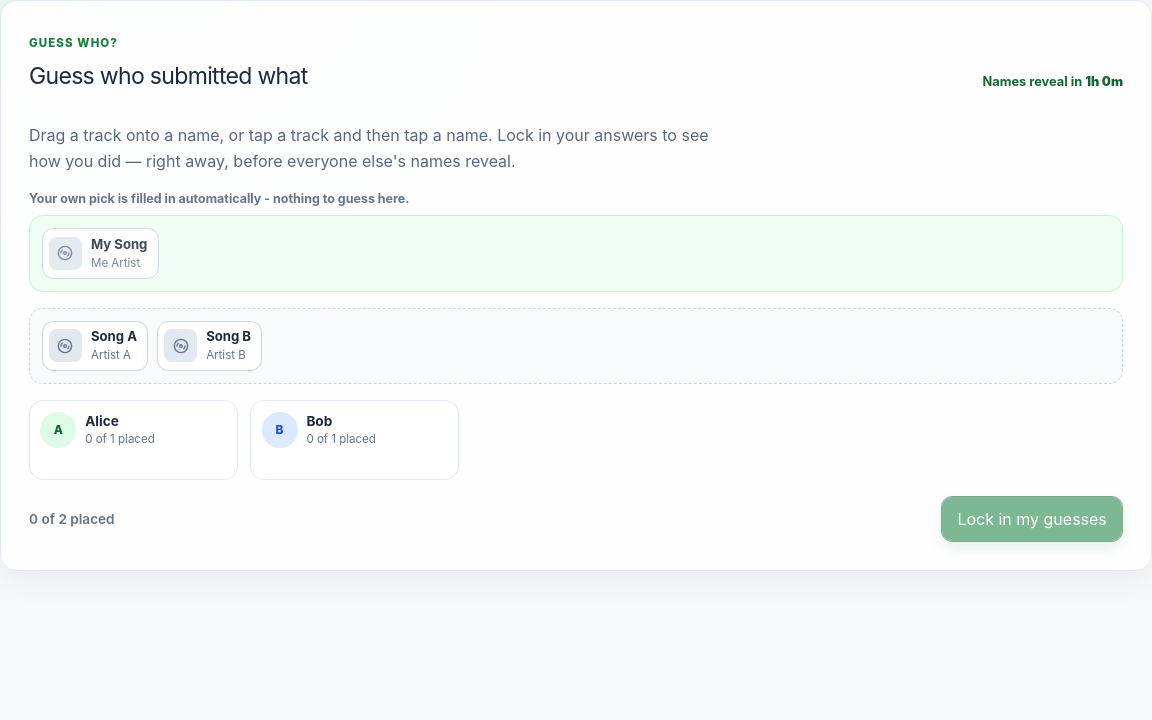
Test: AttributionGame › assigns tracks by tapping a track then a name, and enforces each member's submission limit
Click the button "Song A Artist A".
click(95, 346)  # box top-left (42, 320), bottom-right (148, 371)
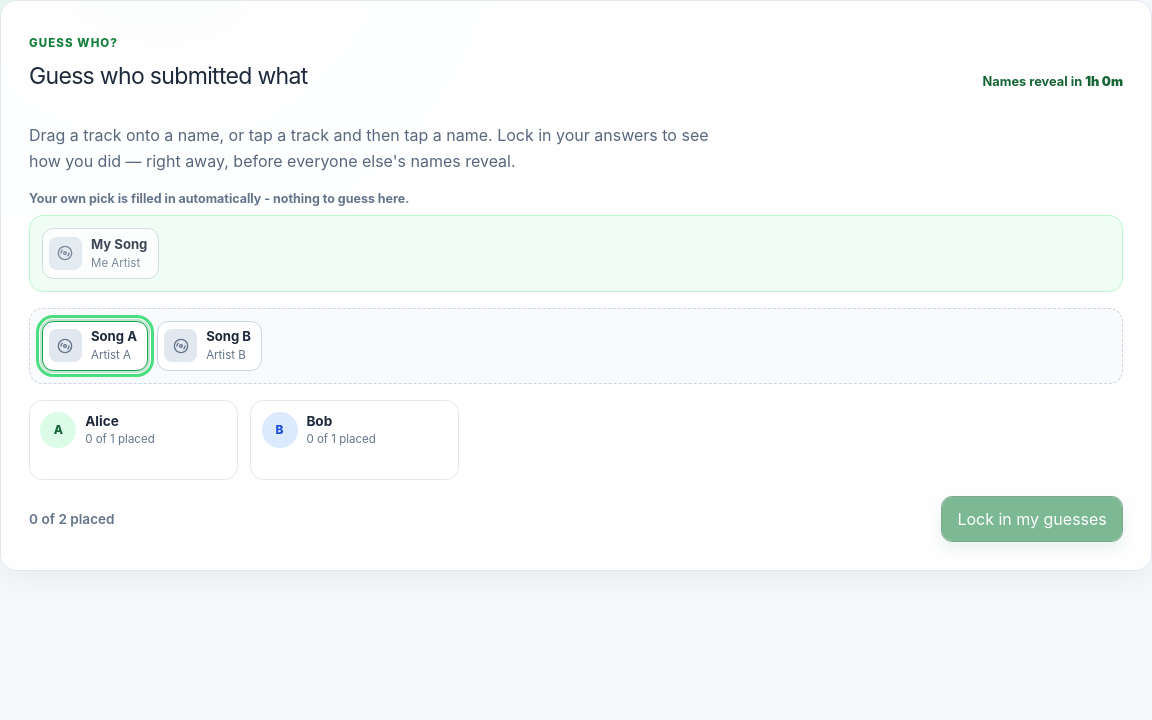
Click the button "A Alice 0 of 1 placed".
click(134, 430)  # box top-left (40, 411), bottom-right (227, 449)
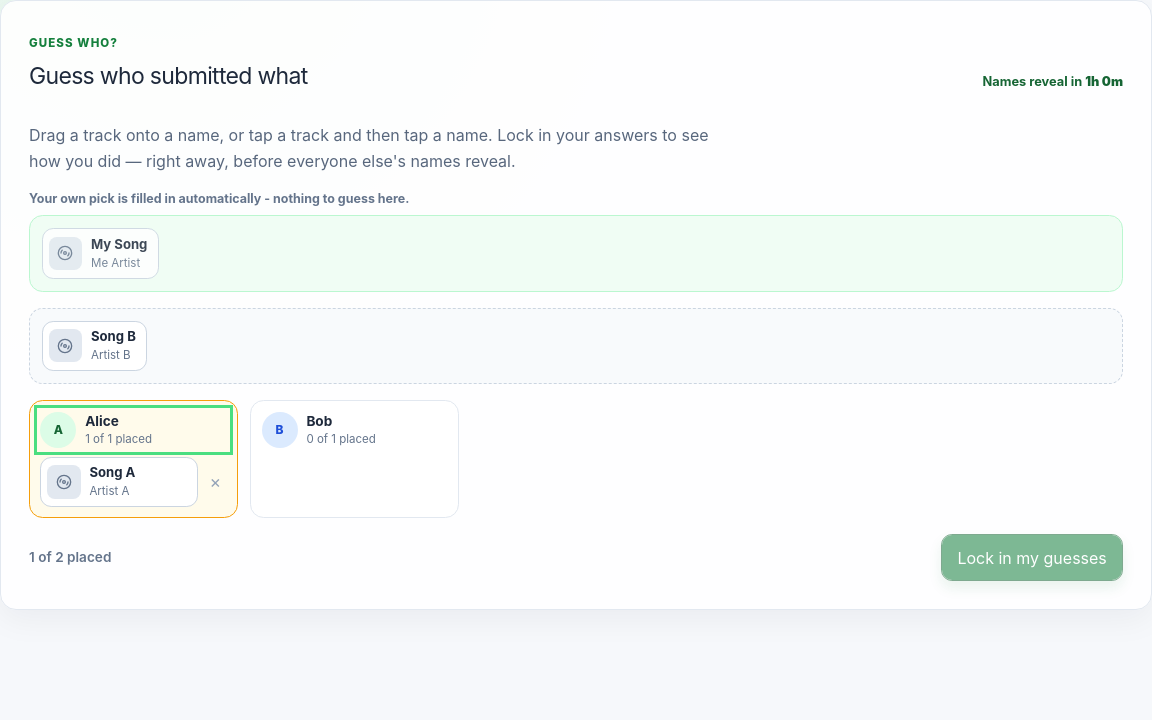
Expected: the text "1 of 1 placed" is shown, top-left (85, 432), bottom-right (152, 449)
// Alice already has her one allowed guess - a second track can't go to her.
Click the button "Song B Artist B".
click(95, 346)  # box top-left (42, 320), bottom-right (147, 371)
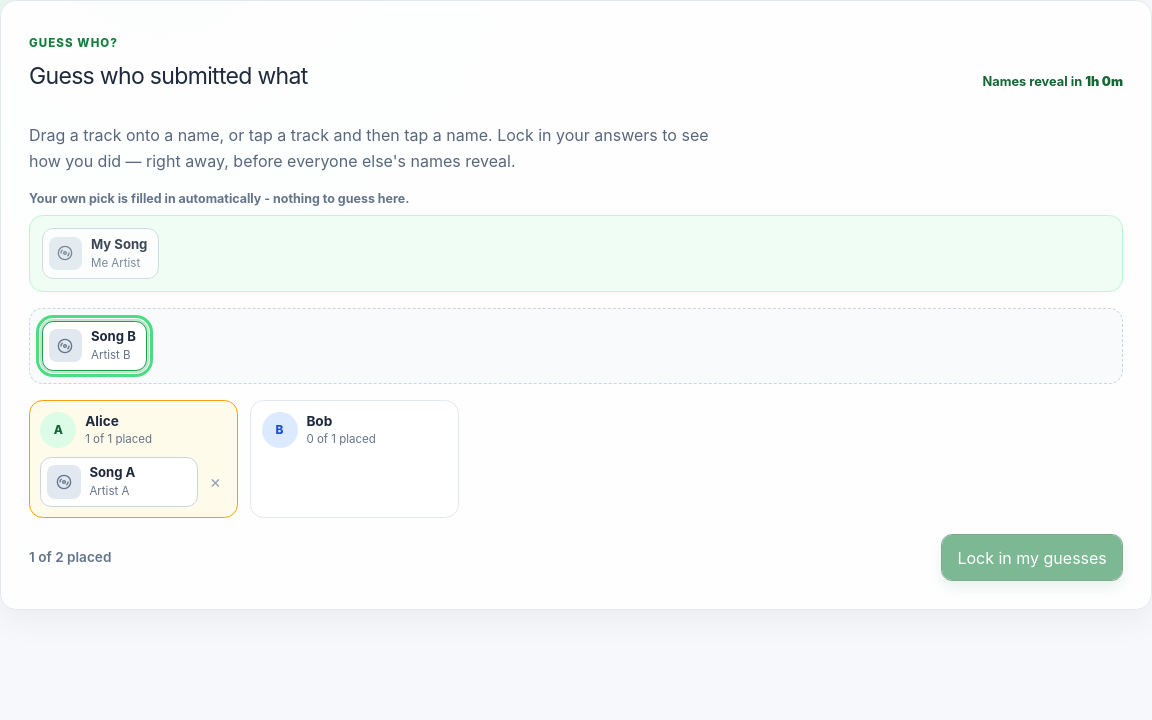
Click the button "A Alice 1 of 1 placed".
click(134, 430)  # box top-left (40, 411), bottom-right (227, 449)
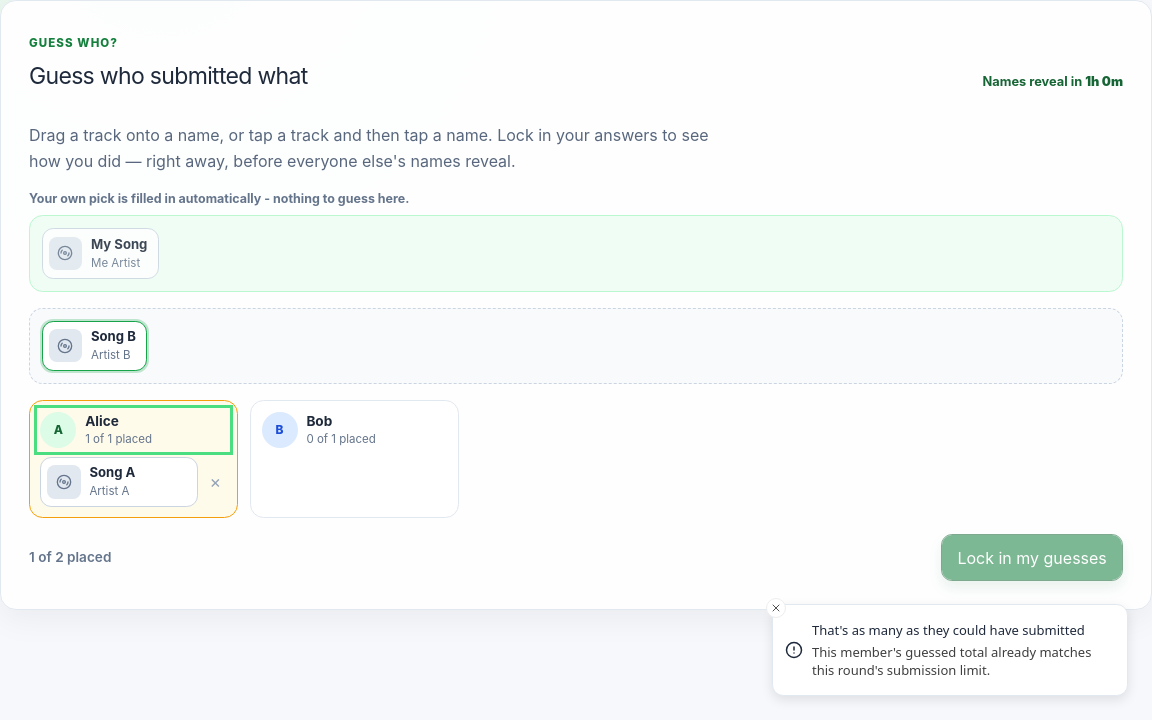
Expected: the button "Lock in my guesses" is disabled, top-left (941, 534), bottom-right (1123, 581)
Expected: the text "That's as many as they could have submitted" is shown, top-left (812, 621), bottom-right (1111, 641)
Click the button "B Bob 0 of 1 placed".
click(355, 430)  # box top-left (262, 411), bottom-right (448, 449)
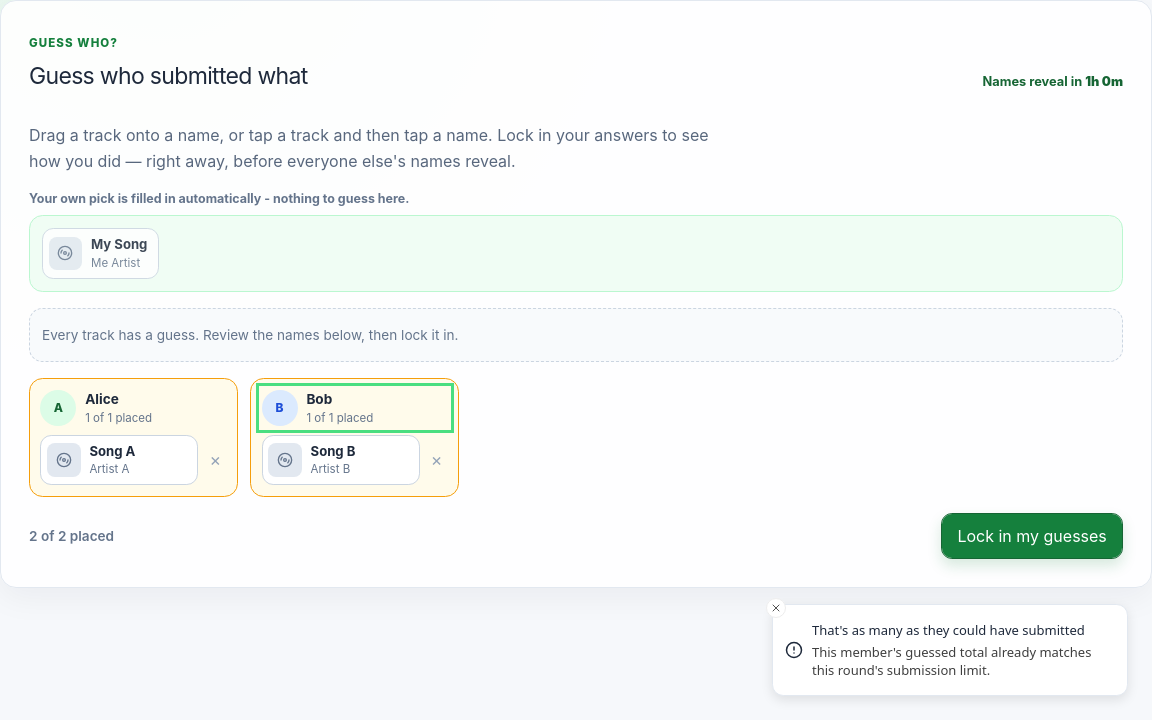
Expected: the button "Lock in my guesses" is enabled, top-left (941, 512), bottom-right (1123, 559)
